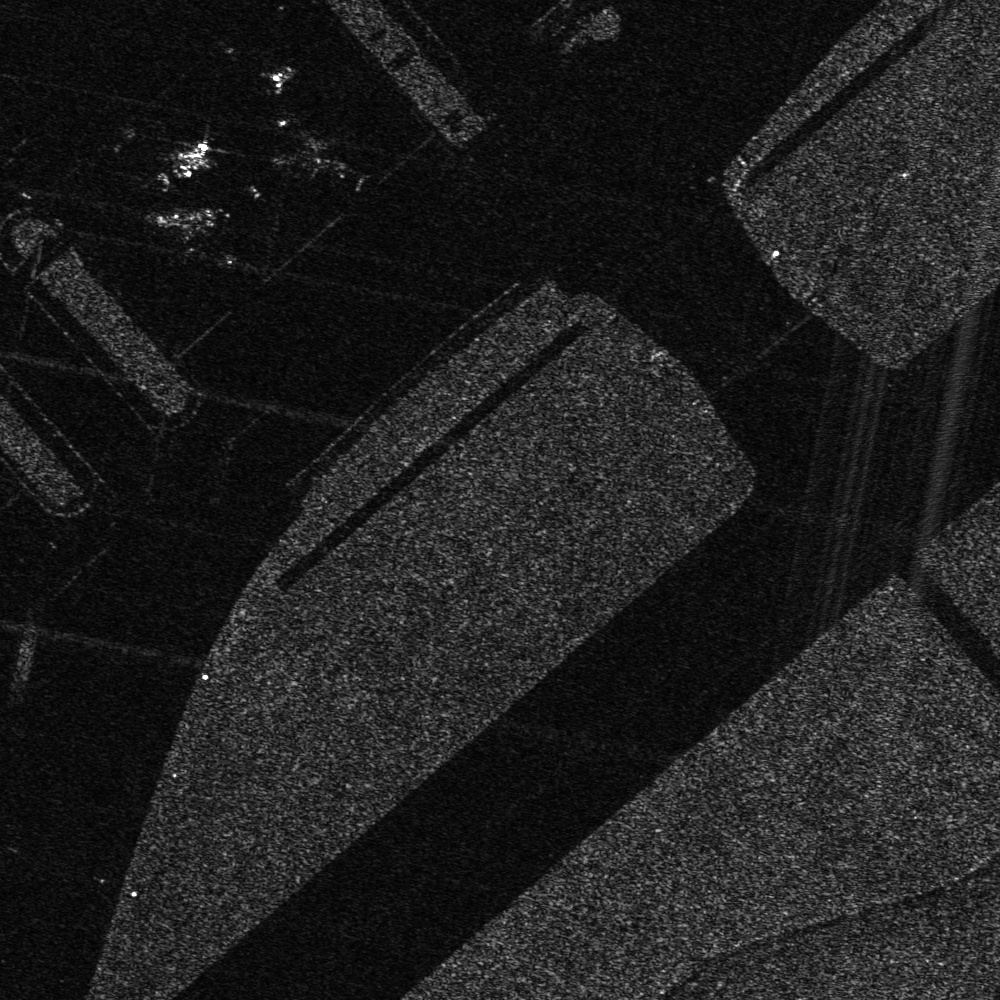Boeing737: (275, 105, 373, 191), (140, 189, 237, 270)
